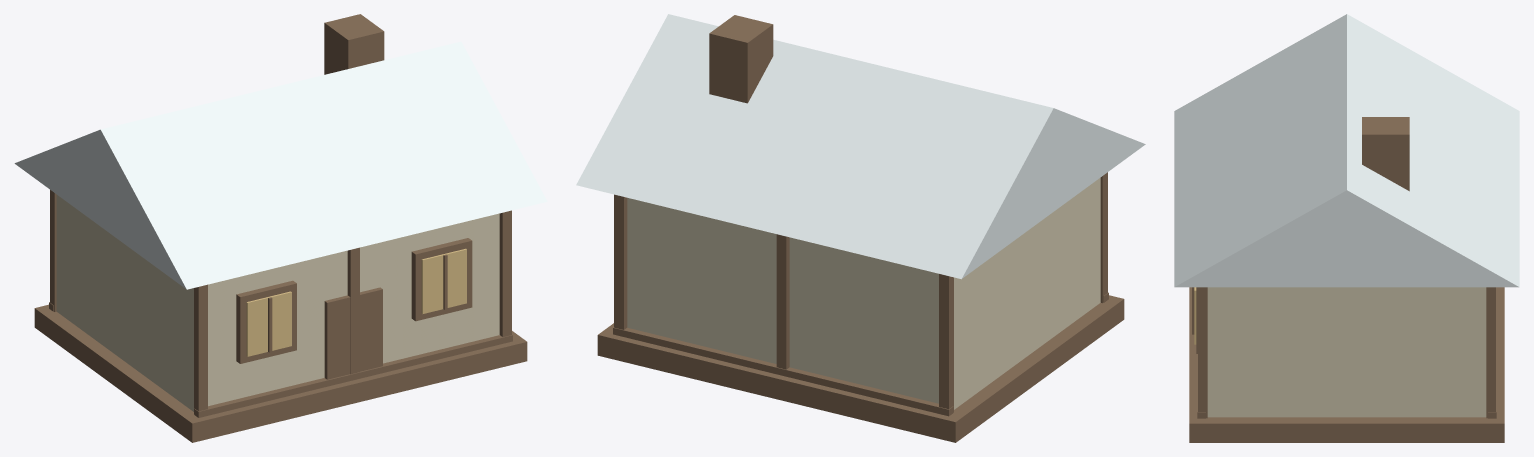
Rendered from snow-house.glb.
The picture shows the model from 3 angles, left to right: view 1: azimuth 30°, elevation 25°; view 2: azimuth 150°, elevation 25°; view 3: azimuth 270°, elevation 25°; orthographic projection. The views are drawn at different scales.
Parts seen in each view (by area): view 1: Gabled roof, Plaster house, Stone foundation, Window glass; view 2: Gabled roof, Plaster house, Stone foundation; view 3: Gabled roof, Plaster house, Stone foundation.
Boxes of the visible parts, x1,y1,x2,y2 form: Gabled roof: [14, 41, 547, 289]; Plaster house: [56, 195, 499, 411]; Stone foundation: [34, 14, 527, 442]; Window glass: [246, 248, 466, 356]; Gabled roof: [576, 14, 1145, 279]; Plaster house: [627, 177, 1100, 409]; Stone foundation: [597, 15, 1124, 442]; Gabled roof: [1174, 14, 1519, 287]; Plaster house: [1207, 287, 1486, 417]; Stone foundation: [1189, 117, 1504, 442].
Size of the model in its own units: 7 by 5.2 by 5.8.
